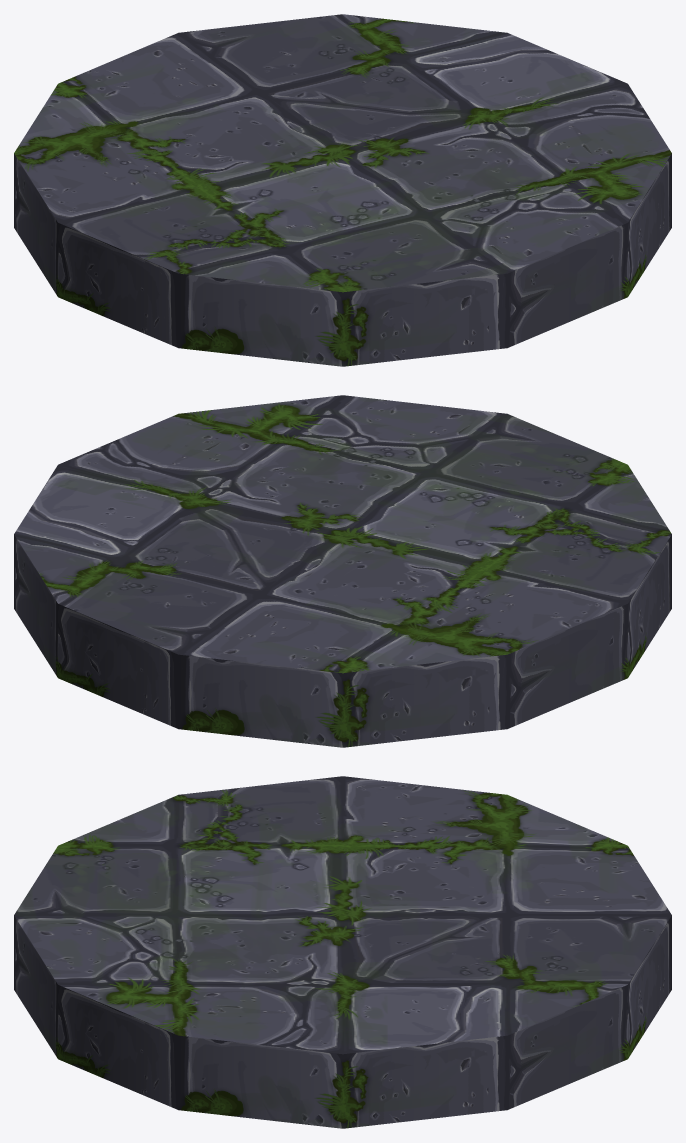
File: MOD_Floor_01_E_convex_med_2.fbx
The picture shows the model from 3 angles, top to bottom: view 1: azimuth 30°, elevation 25°; view 2: azimuth 150°, elevation 25°; view 3: azimuth 270°, elevation 25°; orthographic projection.
Visible parts, largest first — view 1: MOD_Floor_01_E_convex_med_2; view 2: MOD_Floor_01_E_convex_med_2; view 3: MOD_Floor_01_E_convex_med_2.
Part boxes in pixels (x1,y1,x2,y2): MOD_Floor_01_E_convex_med_2: [14, 14, 671, 366]; MOD_Floor_01_E_convex_med_2: [14, 395, 671, 747]; MOD_Floor_01_E_convex_med_2: [14, 776, 671, 1128].
Bounding box in the file's own units: 400 × 50 × 400.
